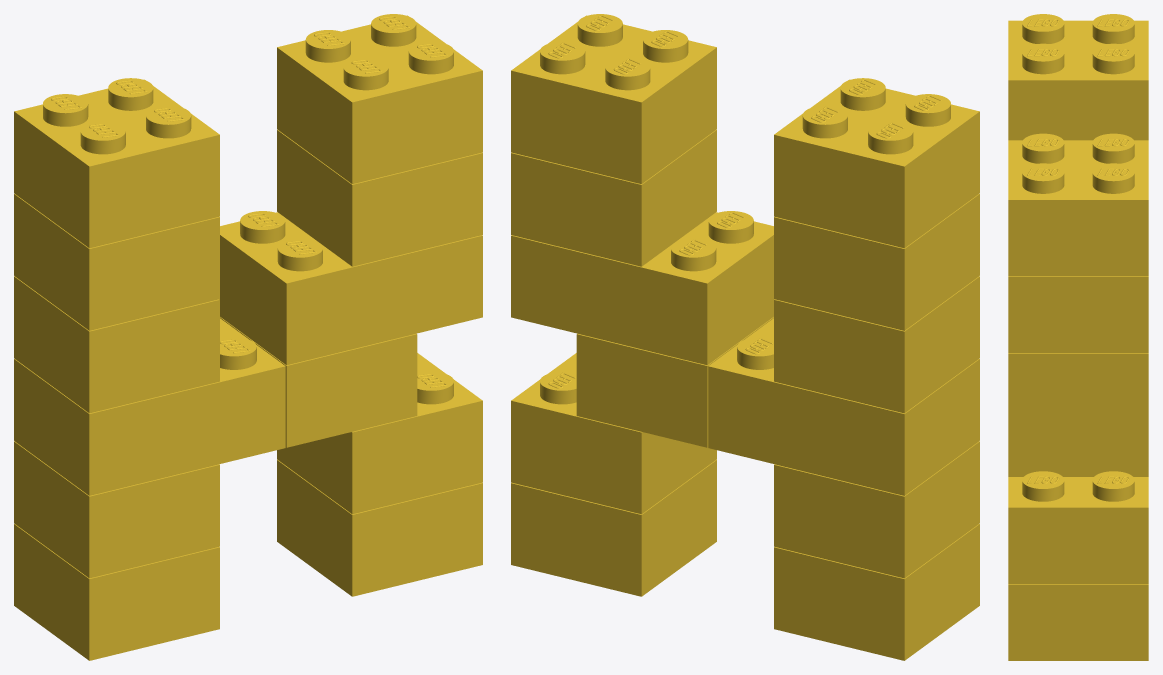
The picture shows the model from 3 angles, left to right: view 1: azimuth 30°, elevation 25°; view 2: azimuth 150°, elevation 25°; view 3: azimuth 270°, elevation 25°; orthographic projection. The views are drawn at different scales.
Parts seen in each view (by area): view 1: Inner-Node-K_dot_io-7, Inner-Node-K_dot_io-11, Inner-Node-K_dot_io-10, Inner-Node-K_dot_io-8, Inner-Node-K_dot_io-6, Inner-Node-K_dot_io-0, Inner-Node-K_dot_io-1, Inner-Node-K_dot_io-5, Inner-Node-K_dot_io-2, Inner-Node-K_dot_io-4, Inner-Node-K_dot_io-3, Inner-Node-K_dot_io-9; view 2: Inner-Node-K_dot_io-7, Inner-Node-K_dot_io-11, Inner-Node-K_dot_io-10, Inner-Node-K_dot_io-8, Inner-Node-K_dot_io-6, Inner-Node-K_dot_io-0, Inner-Node-K_dot_io-1, Inner-Node-K_dot_io-5, Inner-Node-K_dot_io-2, Inner-Node-K_dot_io-4, Inner-Node-K_dot_io-3, Inner-Node-K_dot_io-9; view 3: Inner-Node-K_dot_io-11, Inner-Node-K_dot_io-7, Inner-Node-K_dot_io-3, Inner-Node-K_dot_io-2, Inner-Node-K_dot_io-6, Inner-Node-K_dot_io-10, Inner-Node-K_dot_io-9.
Part boxes in pixels (x1,y1,x2,y2): Inner-Node-K_dot_io-7: [14, 78, 219, 248]; Inner-Node-K_dot_io-11: [277, 14, 482, 183]; Inner-Node-K_dot_io-10: [219, 211, 482, 365]; Inner-Node-K_dot_io-8: [14, 318, 285, 495]; Inner-Node-K_dot_io-6: [277, 129, 482, 266]; Inner-Node-K_dot_io-0: [14, 441, 219, 578]; Inner-Node-K_dot_io-1: [14, 276, 219, 413]; Inner-Node-K_dot_io-5: [14, 194, 219, 330]; Inner-Node-K_dot_io-2: [277, 459, 482, 596]; Inner-Node-K_dot_io-4: [14, 524, 219, 660]; Inner-Node-K_dot_io-3: [277, 353, 482, 514]; Inner-Node-K_dot_io-9: [220, 317, 417, 447]; Inner-Node-K_dot_io-7: [774, 78, 979, 248]; Inner-Node-K_dot_io-11: [511, 14, 716, 183]; Inner-Node-K_dot_io-10: [511, 211, 774, 365]; Inner-Node-K_dot_io-8: [708, 318, 979, 495]; Inner-Node-K_dot_io-6: [511, 129, 716, 266]; Inner-Node-K_dot_io-0: [774, 441, 979, 578]; Inner-Node-K_dot_io-1: [774, 276, 979, 413]; Inner-Node-K_dot_io-5: [774, 194, 979, 330]; Inner-Node-K_dot_io-2: [511, 459, 716, 596]; Inner-Node-K_dot_io-4: [774, 524, 979, 660]; Inner-Node-K_dot_io-3: [511, 353, 716, 514]; Inner-Node-K_dot_io-9: [576, 317, 773, 447]; Inner-Node-K_dot_io-11: [1008, 133, 1148, 275]; Inner-Node-K_dot_io-7: [1008, 14, 1148, 140]; Inner-Node-K_dot_io-3: [1008, 471, 1148, 583]; Inner-Node-K_dot_io-2: [1008, 584, 1148, 660]; Inner-Node-K_dot_io-6: [1008, 276, 1148, 352]; Inner-Node-K_dot_io-10: [1008, 353, 1148, 429]; Inner-Node-K_dot_io-9: [1008, 430, 1148, 476].
Bounding box in the file's own units: 120 × 148 × 39.75.
